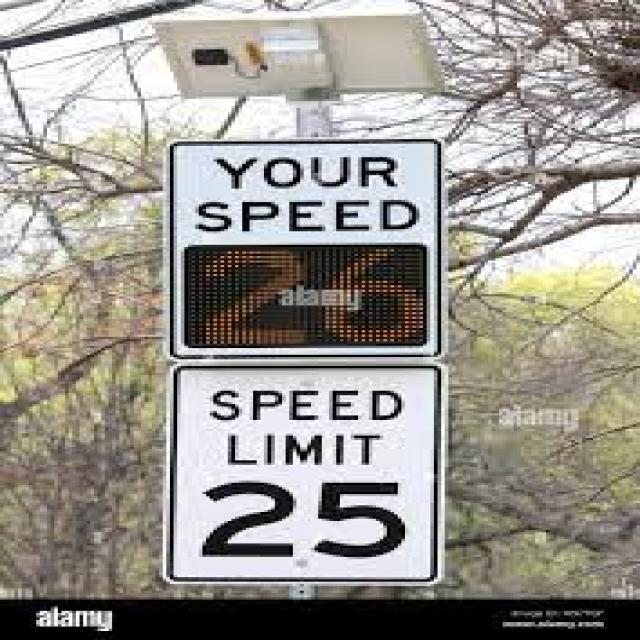speedLimit25: (163, 364, 452, 600)
